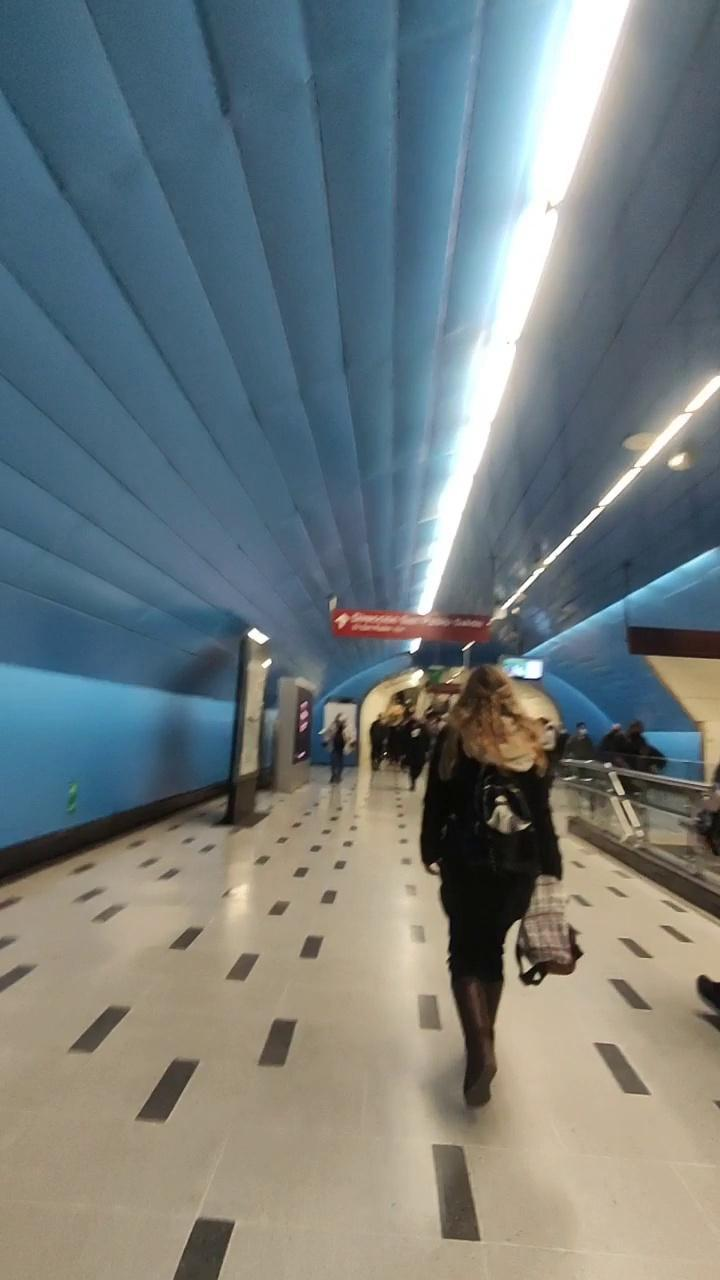up arrow: (329, 612, 359, 634)
